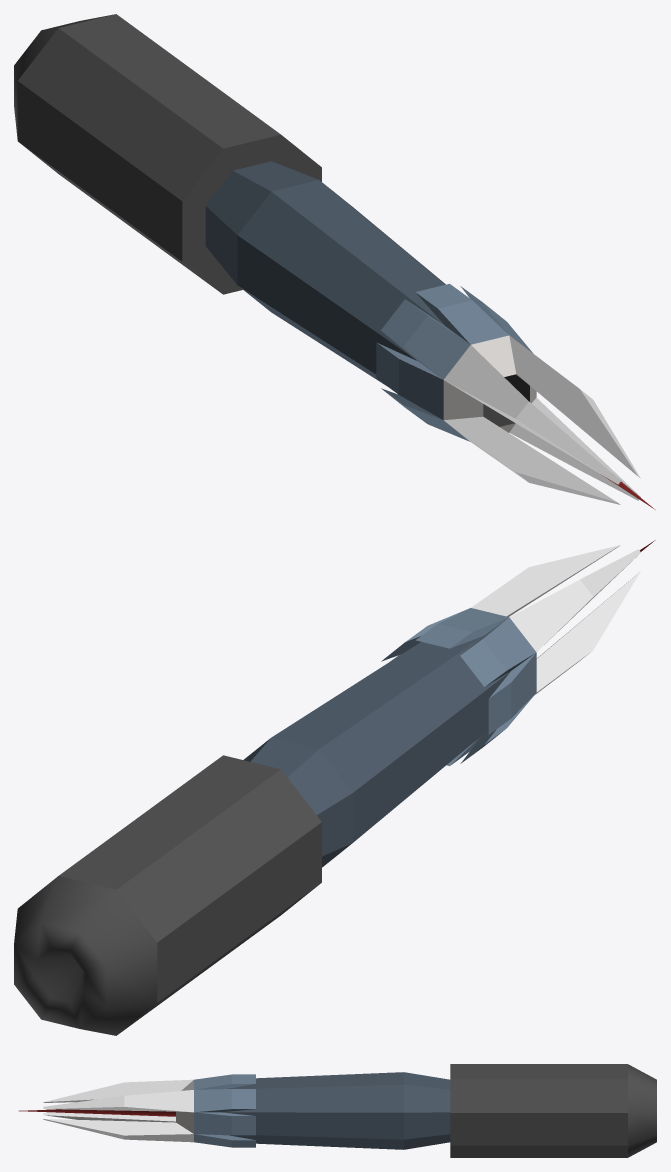
The model's file is shiplaser.fbx.
The picture shows the model from 3 angles, top to bottom: view 1: azimuth 30°, elevation 25°; view 2: azimuth 150°, elevation 25°; view 3: azimuth 270°, elevation 25°; orthographic projection. The views are drawn at different scales.
Visible parts, largest first — view 1: shiplaser; view 2: shiplaser; view 3: shiplaser.
Part boxes in pixels (x1=…): shiplaser: x1=14, y1=14, x2=655, y2=509; shiplaser: x1=14, y1=540, x2=655, y2=1035; shiplaser: x1=19, y1=1064, x2=656, y2=1157.
Bounding box in the file's own units: 1.14 × 1.14 × 8.45.
